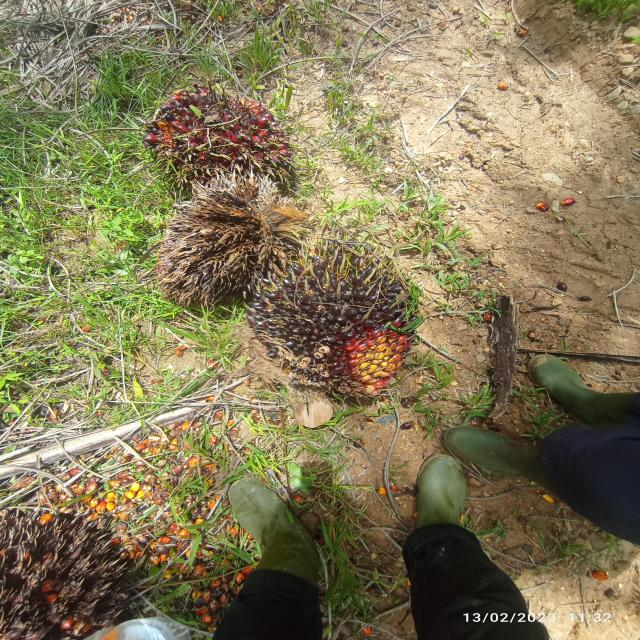fraksi 00: (252, 227, 428, 415)
fraksi 1: (139, 75, 311, 211)
